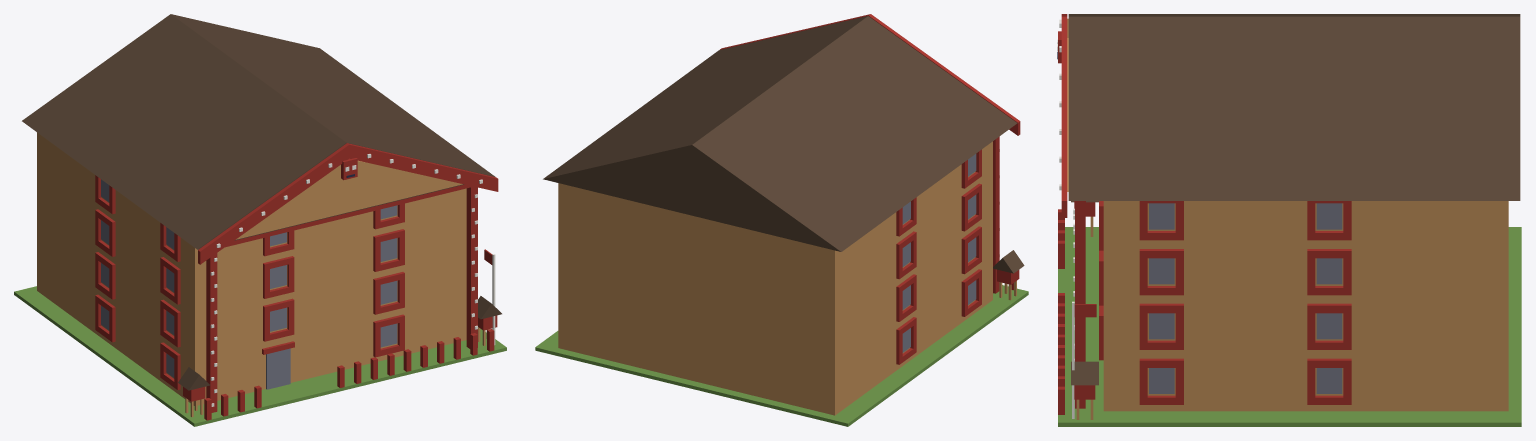
The model's file is house-2x2-4f-whare-a.glb.
The picture shows the model from 3 angles, left to right: view 1: azimuth 30°, elevation 25°; view 2: azimuth 150°, elevation 25°; view 3: azimuth 270°, elevation 25°; orthographic projection. The views are drawn at different scales.
Visible parts, largest first — view 1: house-2x2-4f-whare-a; view 2: house-2x2-4f-whare-a; view 3: house-2x2-4f-whare-a.
Boxes of the visible parts, bbox=[...] form: house-2x2-4f-whare-a: bbox=[14, 14, 506, 426]; house-2x2-4f-whare-a: bbox=[535, 14, 1028, 426]; house-2x2-4f-whare-a: bbox=[1057, 14, 1521, 426].
Size of the model in its own units: 2 by 1.48 by 1.99.
Materials: 1 (1 with a texture image).
